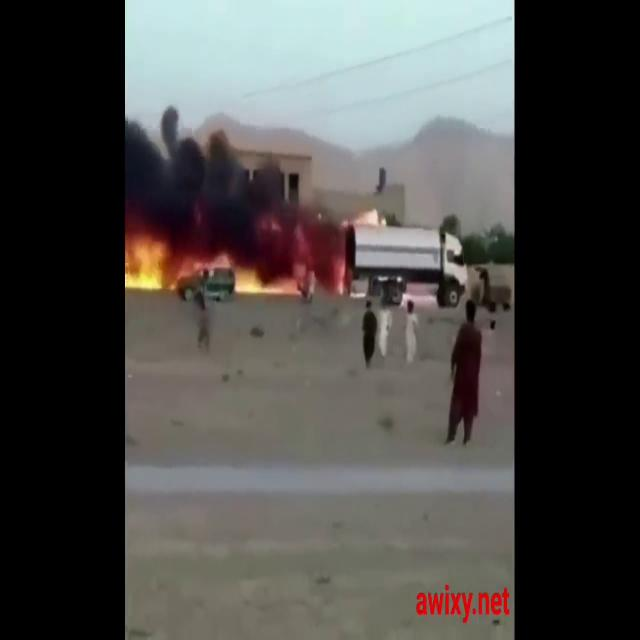Fire: (232, 259, 347, 298), (127, 228, 178, 289)
Smoke: (128, 110, 341, 260)
